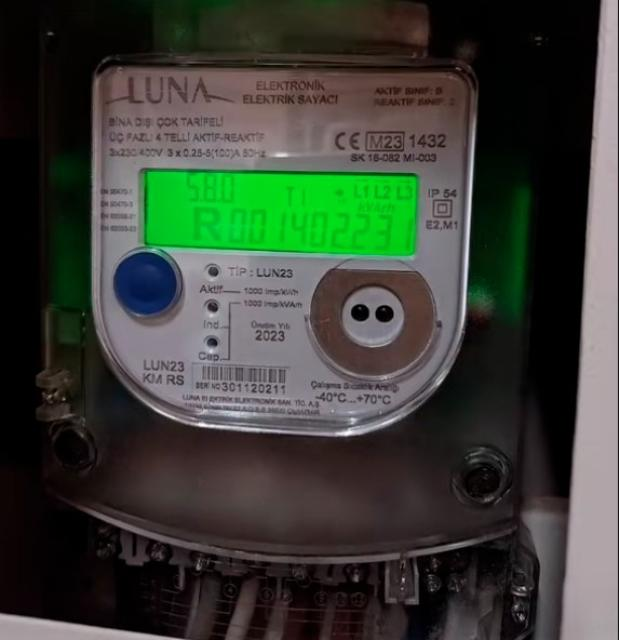electric-meter-detection: (37, 0, 532, 639)
